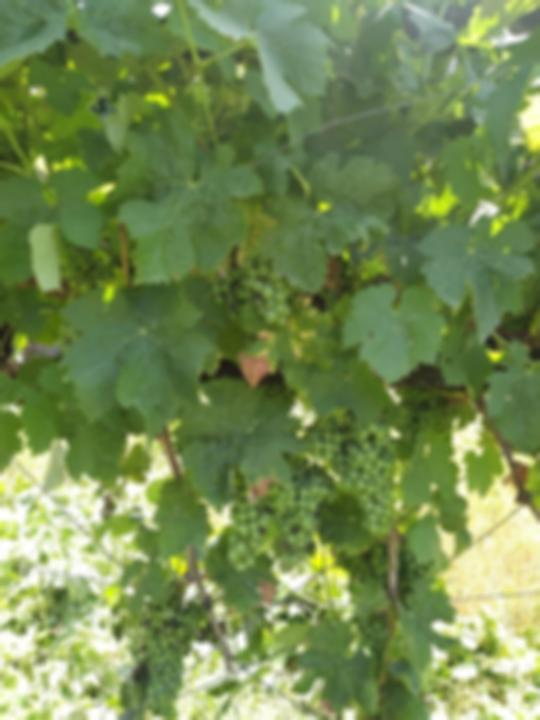grape: (306, 404, 410, 537), (138, 592, 212, 720), (261, 449, 337, 567), (210, 243, 303, 328), (226, 469, 273, 573)
